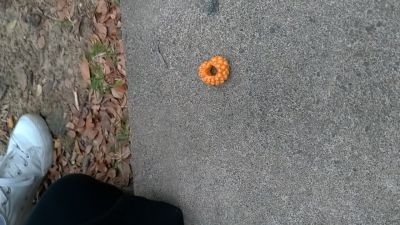eggs: (198, 55, 231, 88)
